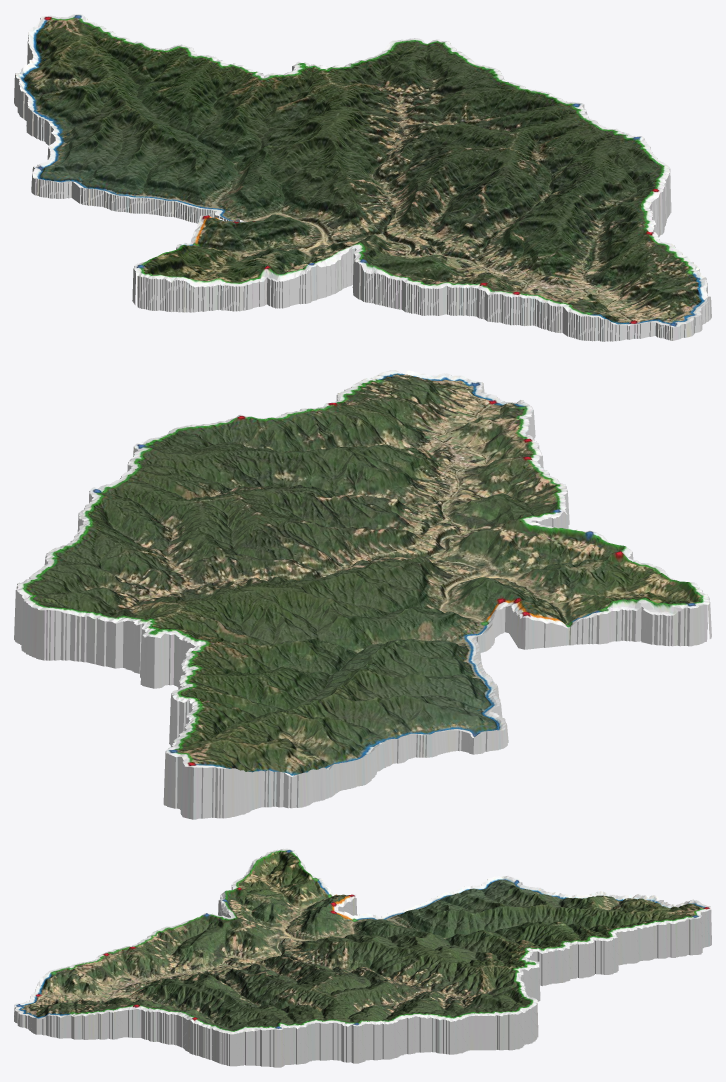
3 renders of one model, top to bottom at view 1: azimuth 30°, elevation 25°; view 2: azimuth 150°, elevation 25°; view 3: azimuth 270°, elevation 25°, orthographic. The views are drawn at different scales.
Bounding box in the file's own units: 1 × 0.0924 × 1.52.
Materials: 1 (1 with a texture image).
